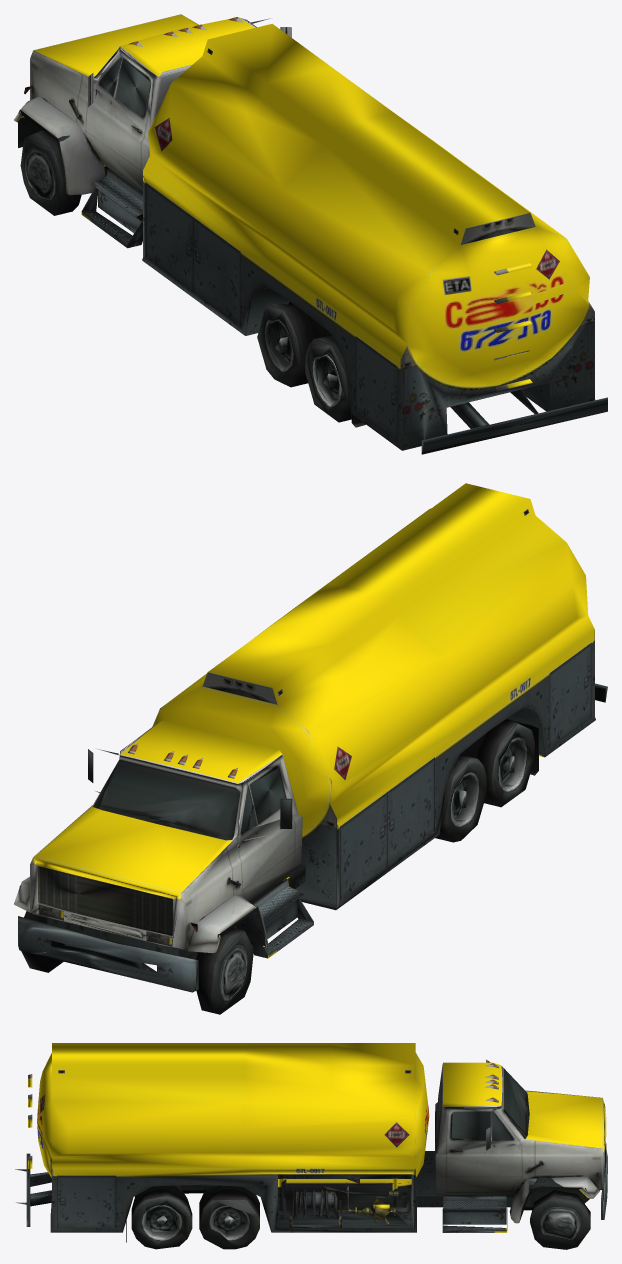
The model's file is fuel-truck.lod0.glb.
3 views of the same model, one above another, from view 1: azimuth 30°, elevation 25°; view 2: azimuth 150°, elevation 25°; view 3: azimuth 270°, elevation 25° (orthographic). The views are drawn at different scales.
Parts seen in each view (by area): view 1: Object_3; view 2: Object_3; view 3: Object_3.
Boxes of the visible parts, bbox=[...] form: Object_3: bbox=[14, 14, 607, 454]; Object_3: bbox=[14, 483, 607, 1014]; Object_3: bbox=[15, 1043, 607, 1249].
Size of the model in its own units: 2.4 by 2.58 by 8.47.
2 materials, 1 textured.
